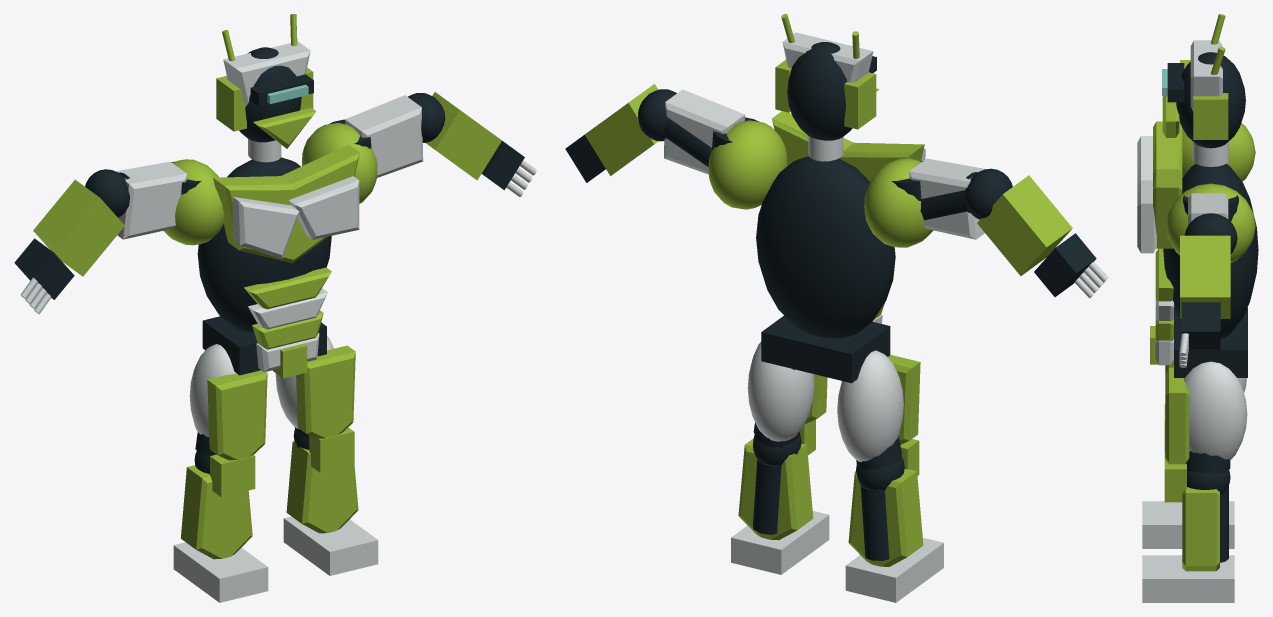
Rendered from cyber-scout.glb.
3 views of the same model, side by side, from view 1: azimuth 30°, elevation 25°; view 2: azimuth 150°, elevation 25°; view 3: azimuth 270°, elevation 25° (orthographic). The views are drawn at different scales.
Visible parts, largest first — view 1: torso, leg-left, leg-right, head, elbow-left, arm-left, arm-right, elbow-right; view 2: torso, leg-left, leg-right, head, elbow-left, arm-right, arm-left, elbow-right; view 3: leg-right, torso, head, elbow-right, arm-right, leg-left, arm-left.
Part boxes in pixels (x1,y1,x2,y2): torso: (197,144,359,378); leg-left: (173,344,268,602); leg-right: (275,336,378,575); head: (216,14,316,162); elbow-left: (14,169,129,314); arm-left: (116,159,224,245); arm-right: (302,95,423,203); elbow-right: (408,92,536,196); torso: (756,111,925,383); leg-left: (837,350,943,602); leg-right: (731,341,829,574); head: (775,14,879,161); elbow-left: (965,168,1108,298); arm-right: (663,89,787,209); arm-left: (864,158,986,247); elbow-right: (565,84,676,182); leg-right: (1142,361,1247,602); torso: (1137,121,1258,377); head: (1162,14,1245,166); elbow-right: (1179,213,1237,367); arm-right: (1166,183,1255,262); leg-left: (1142,359,1246,548); arm-left: (1180,123,1255,181).
Bounding box in the file's own units: 4.25 × 4.2 × 0.865.
